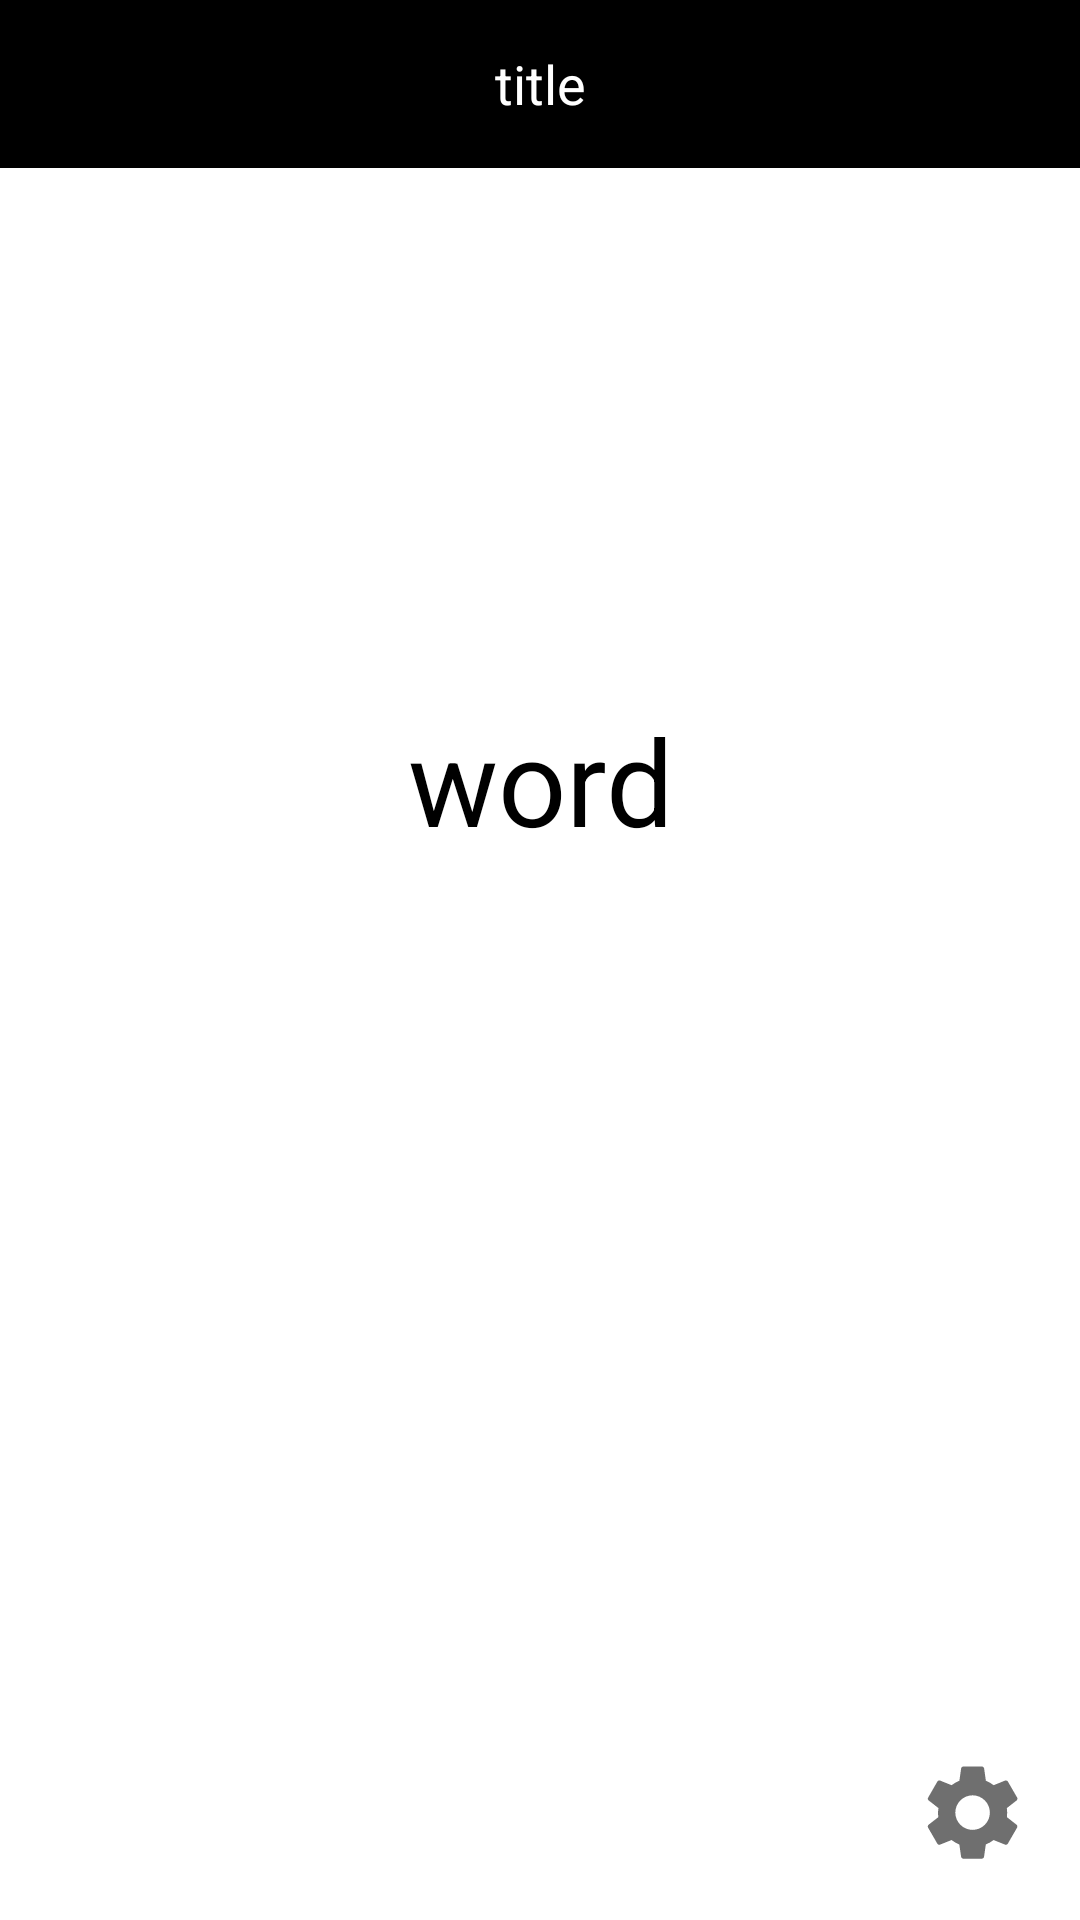

Icon click points for this 1080×1920 phone screenshot, format point (x, y):
setting: point (972, 1812)
